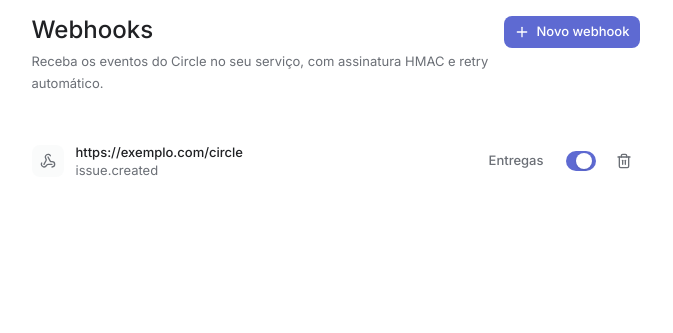
it: Settings → Webhooks (#101) › erro ao carregar as entregas mostra erro com retry, não skeleton eterno (Ad#26)
Step 1. Click the button "Entregas" → {"x": 516, "y": 161}, box top-left (477, 145), bottom-right (556, 177)
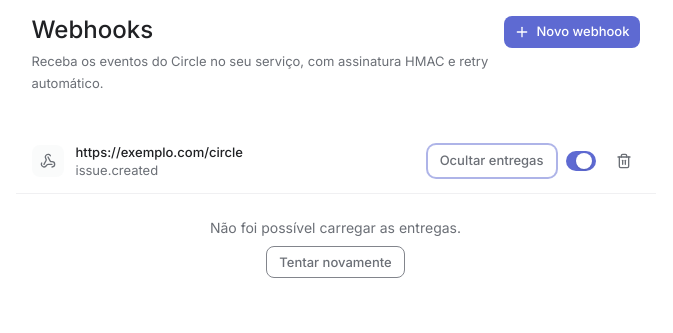
Step 2. Click the button "Tentar novamente" → {"x": 336, "y": 262}, box top-left (266, 246), bottom-right (405, 278)
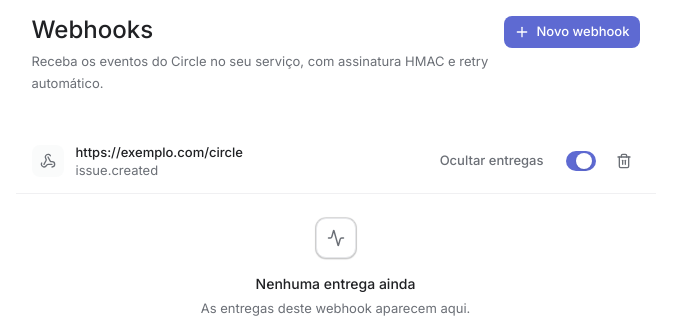
Check: the heading "Nenhuma entrega ainda" is shown, box top-left (256, 274), bottom-right (415, 294)
